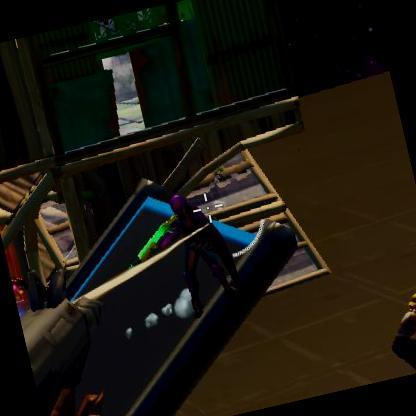person: (157, 184, 245, 314), (379, 285, 416, 377), (390, 288, 416, 374)
